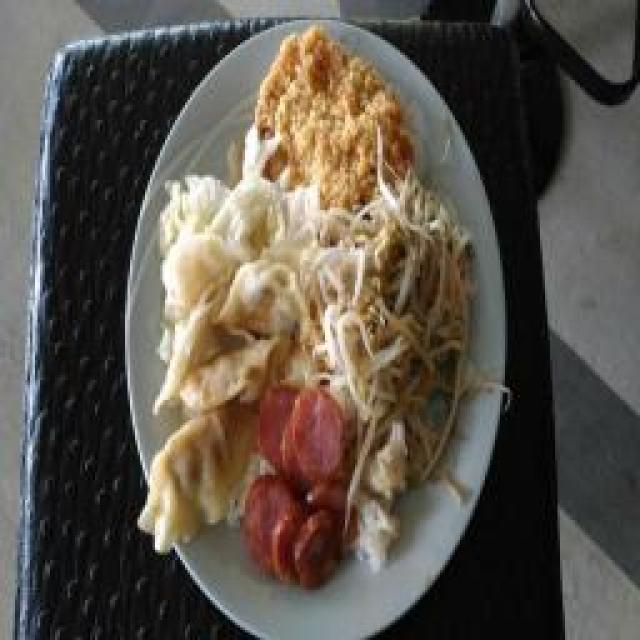Wet Waste: (140, 262, 305, 558), (255, 28, 417, 190), (240, 385, 352, 590), (338, 208, 462, 390), (158, 162, 298, 260), (348, 425, 420, 580)
